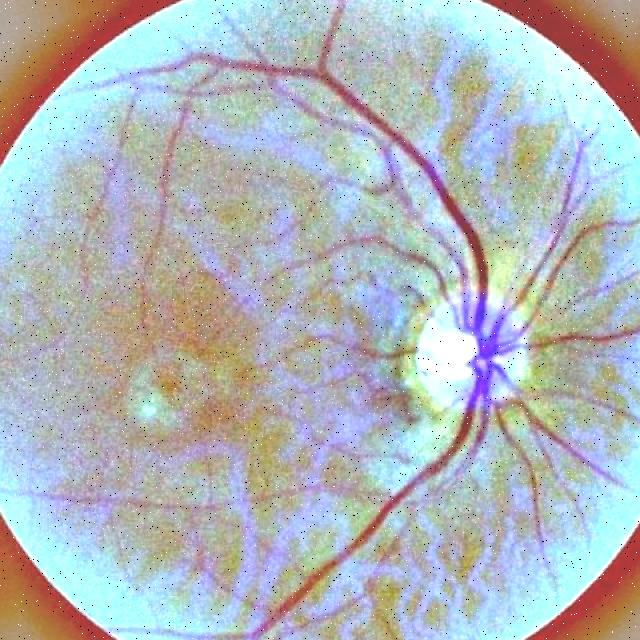Macula: (116, 306, 243, 450)
Nerves: (156, 58, 496, 365), (263, 354, 498, 632), (493, 218, 625, 362)
Optic Disk: (405, 286, 546, 416)
